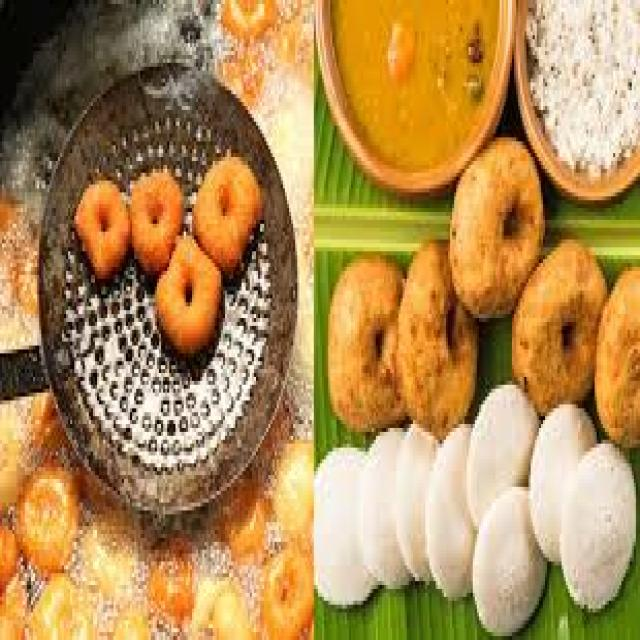MEDU VADA: (74, 153, 262, 349), (450, 137, 543, 314), (512, 240, 605, 412), (396, 243, 477, 436), (328, 255, 403, 428), (597, 267, 638, 444), (159, 236, 221, 349)
